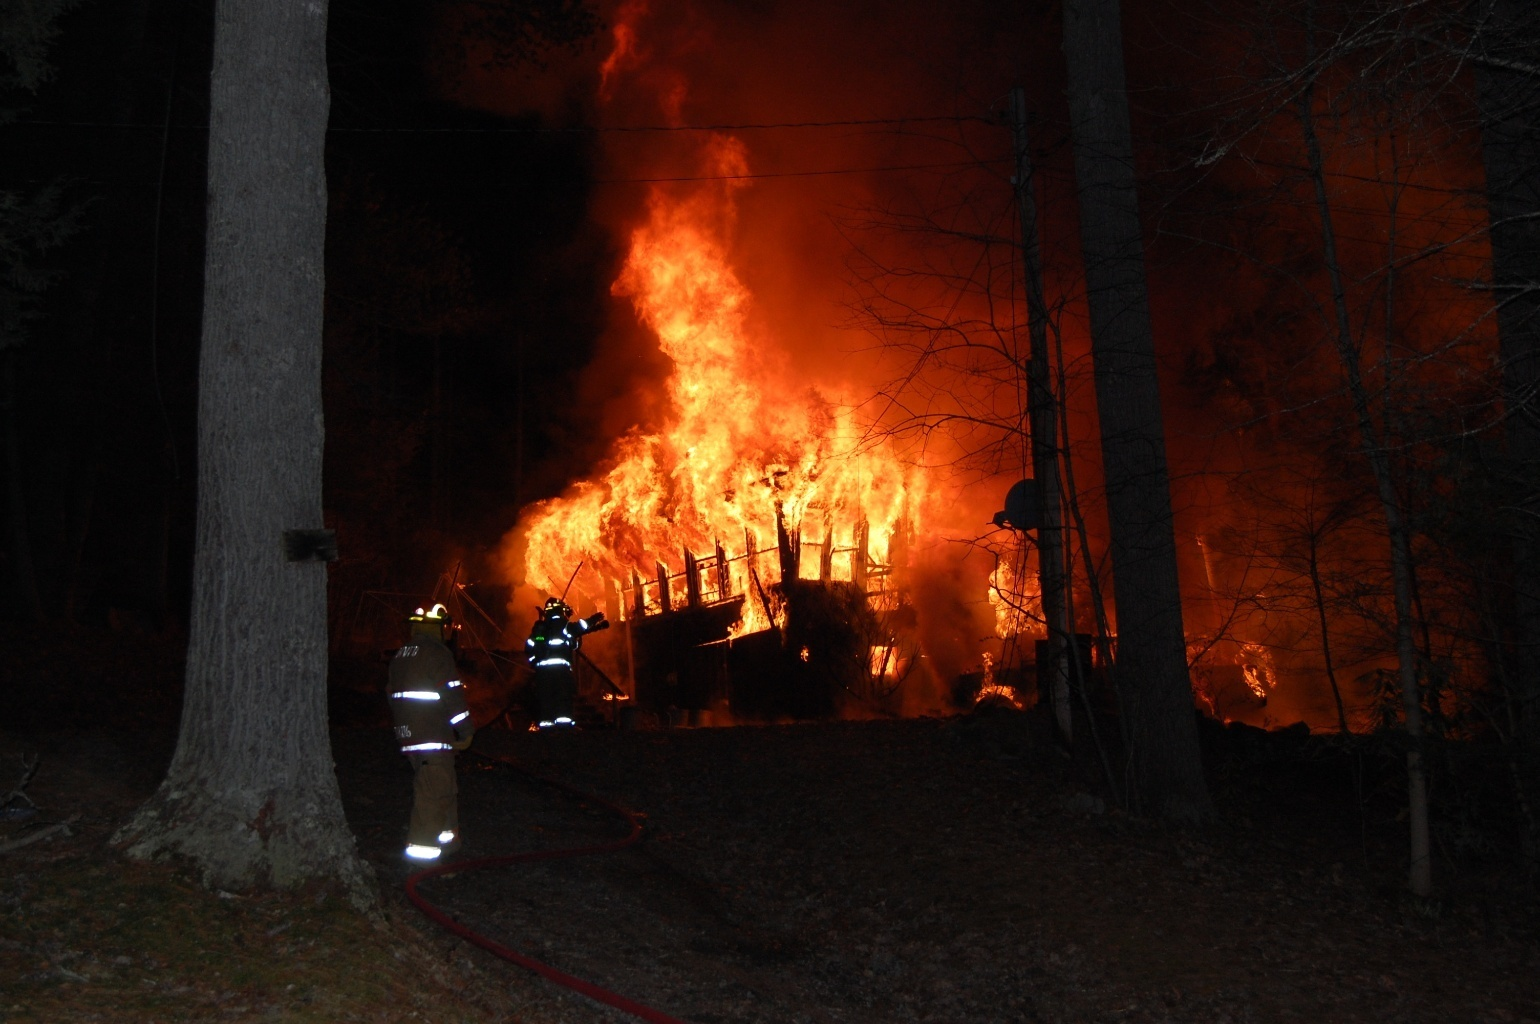fire: (503, 123, 939, 647)
